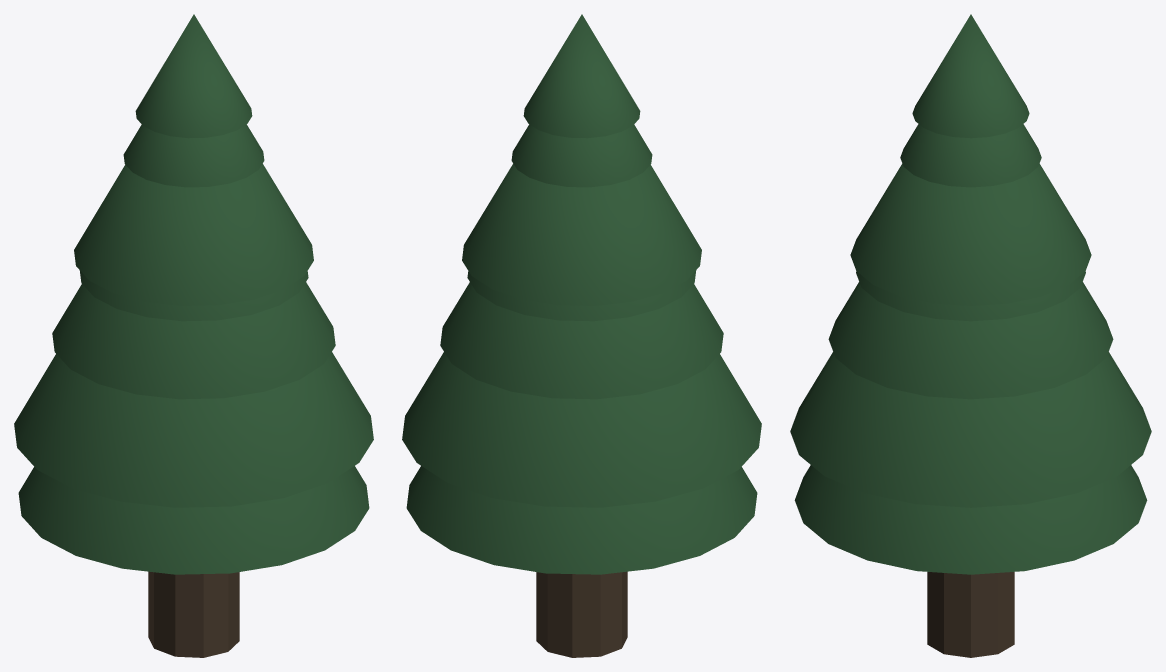
The model's file is Tree.fbx.
3 renders of one model, left to right at view 1: azimuth 30°, elevation 25°; view 2: azimuth 150°, elevation 25°; view 3: azimuth 270°, elevation 25°, orthographic.
Visible parts, largest first — view 1: pCone8; view 2: pCone8; view 3: pCone8.
Part boxes in pixels (box(x1,y1,x2,y2)): pCone8: box(14, 14, 373, 657); pCone8: box(402, 14, 761, 657); pCone8: box(790, 14, 1151, 657).
Size of the model in its own units: 4.36 by 8.31 by 4.36.
